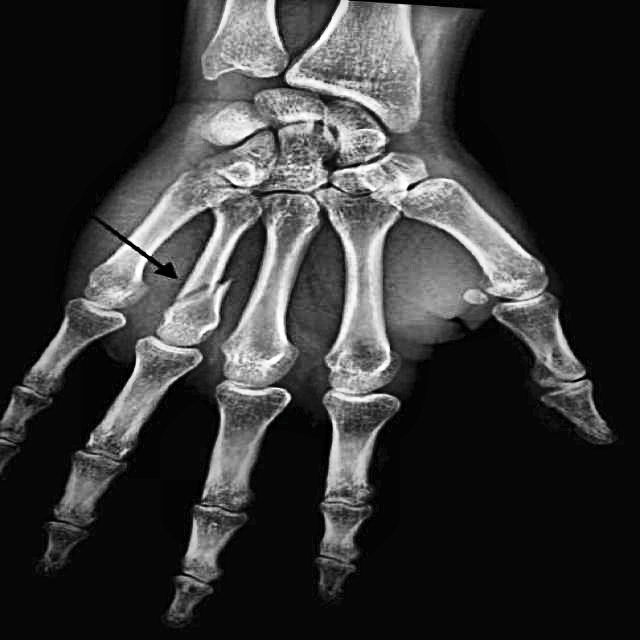Oblique Displaced: (157, 251, 255, 345)
